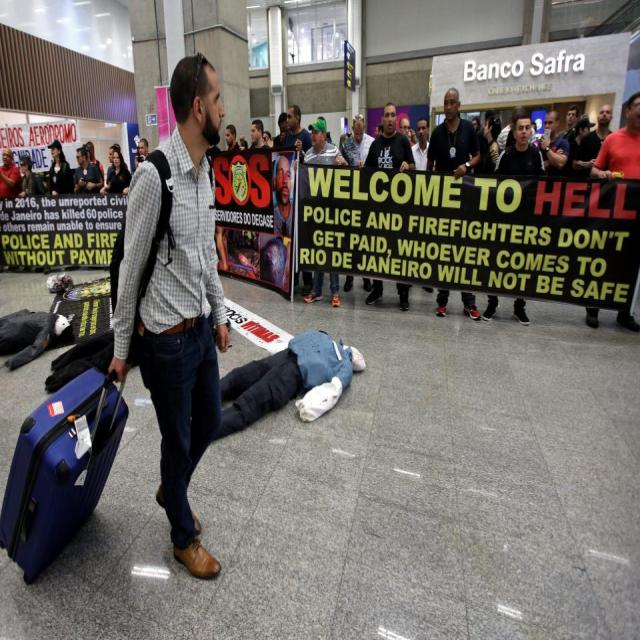body: (104, 48, 235, 584), (482, 107, 546, 326), (584, 89, 640, 335), (425, 86, 483, 321), (360, 102, 416, 312), (217, 155, 294, 291), (302, 118, 349, 309), (341, 113, 376, 295), (572, 103, 616, 180), (494, 105, 543, 174), (18, 154, 46, 274), (264, 104, 314, 160), (224, 122, 244, 256), (533, 108, 571, 176), (235, 111, 287, 151), (564, 113, 597, 176), (80, 139, 121, 187), (46, 138, 74, 197), (99, 148, 132, 196), (73, 145, 104, 195), (410, 116, 436, 170), (481, 113, 502, 171), (0, 146, 22, 197), (246, 117, 272, 152), (557, 104, 580, 139), (394, 111, 415, 148), (132, 137, 151, 174), (472, 108, 496, 132), (316, 114, 332, 147), (338, 132, 352, 156), (374, 122, 383, 138)
